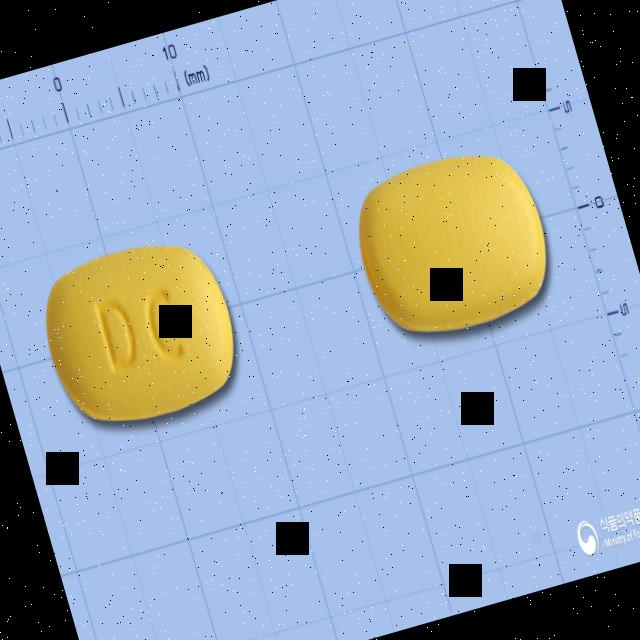Clabicks: (25, 222, 258, 448)
